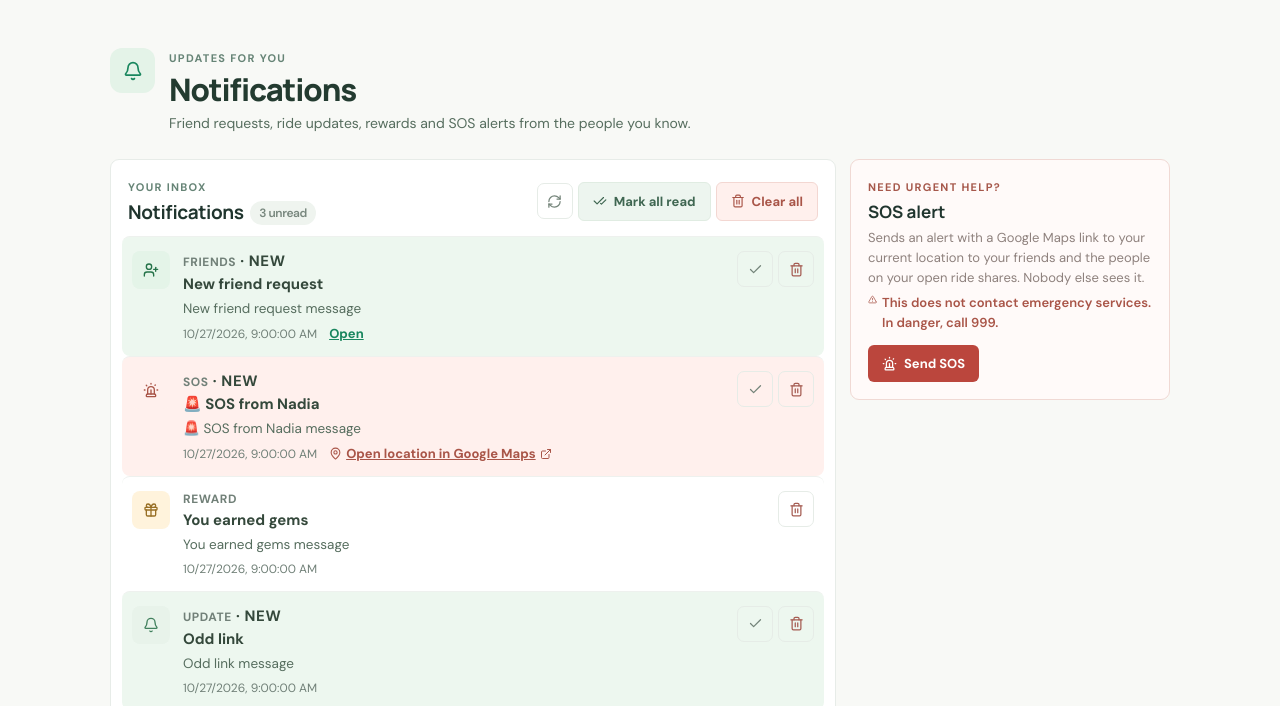
Scenario: NotificationsPage › deletes one notification only after the server agrees
The image size is (1280, 706).
Click the button named "Delete \"🚨 SOS from Nadia\"" at {"x": 796, "y": 389}, box top-left (778, 371), bottom-right (814, 407)
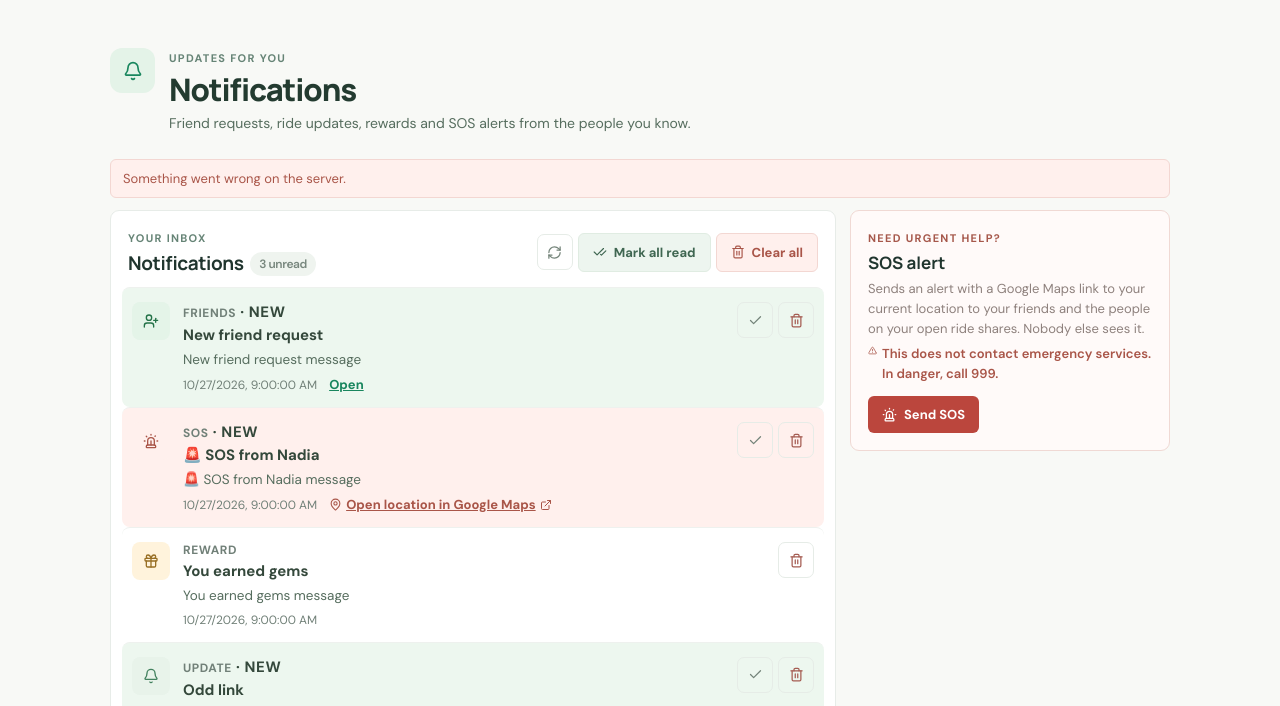
Expected: the text "🚨 SOS from Nadia" is shown, top-left (183, 445), bottom-right (320, 465)
Now the text "Something went wrong on the server." is shown, box top-left (110, 159), bottom-right (1170, 198)
Click the button named "Delete \"🚨 SOS from Nadia\"" at {"x": 796, "y": 440}, box top-left (778, 422), bottom-right (814, 458)
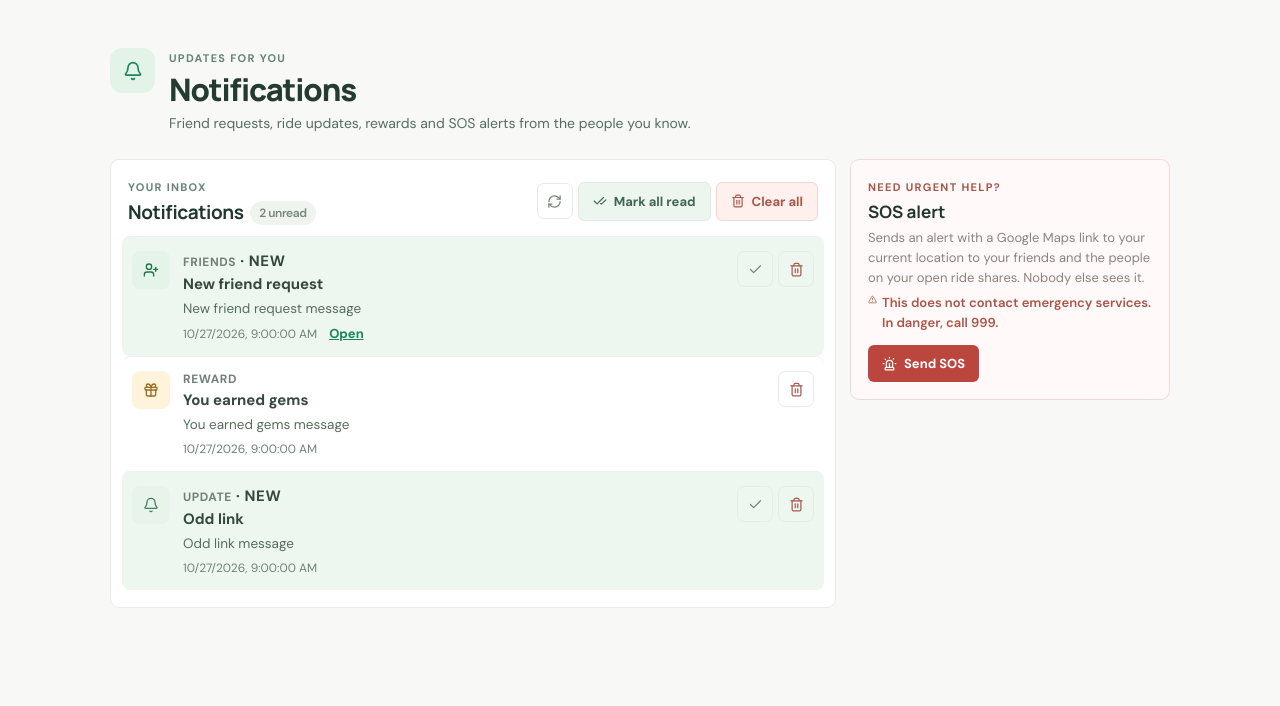
Now the text "🚨 SOS from Nadia" is gone
Now the text with test id "page-unread" reads "2 unread", box top-left (259, 205), bottom-right (307, 221)
